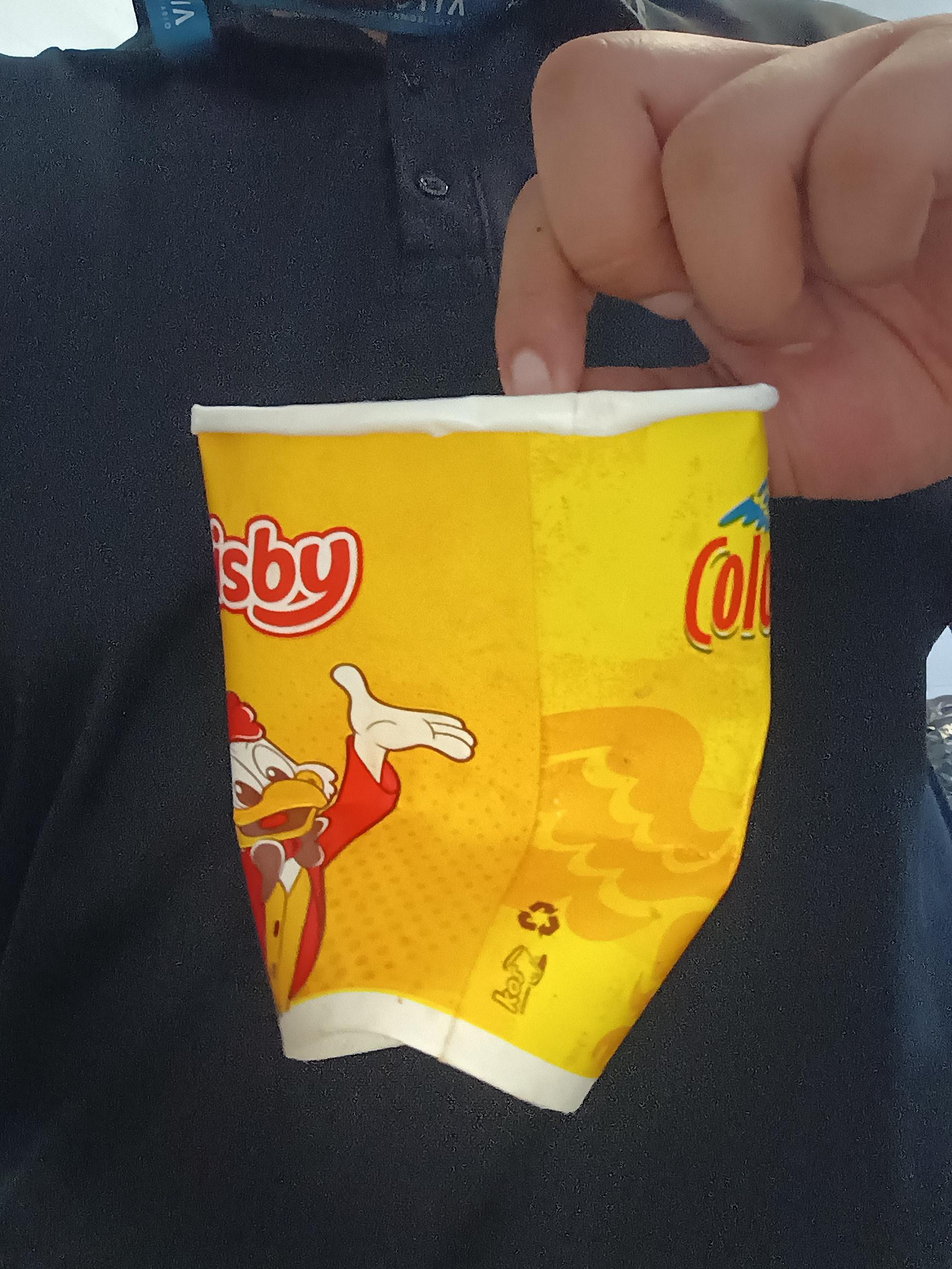Carton: (189, 384, 779, 1117)
